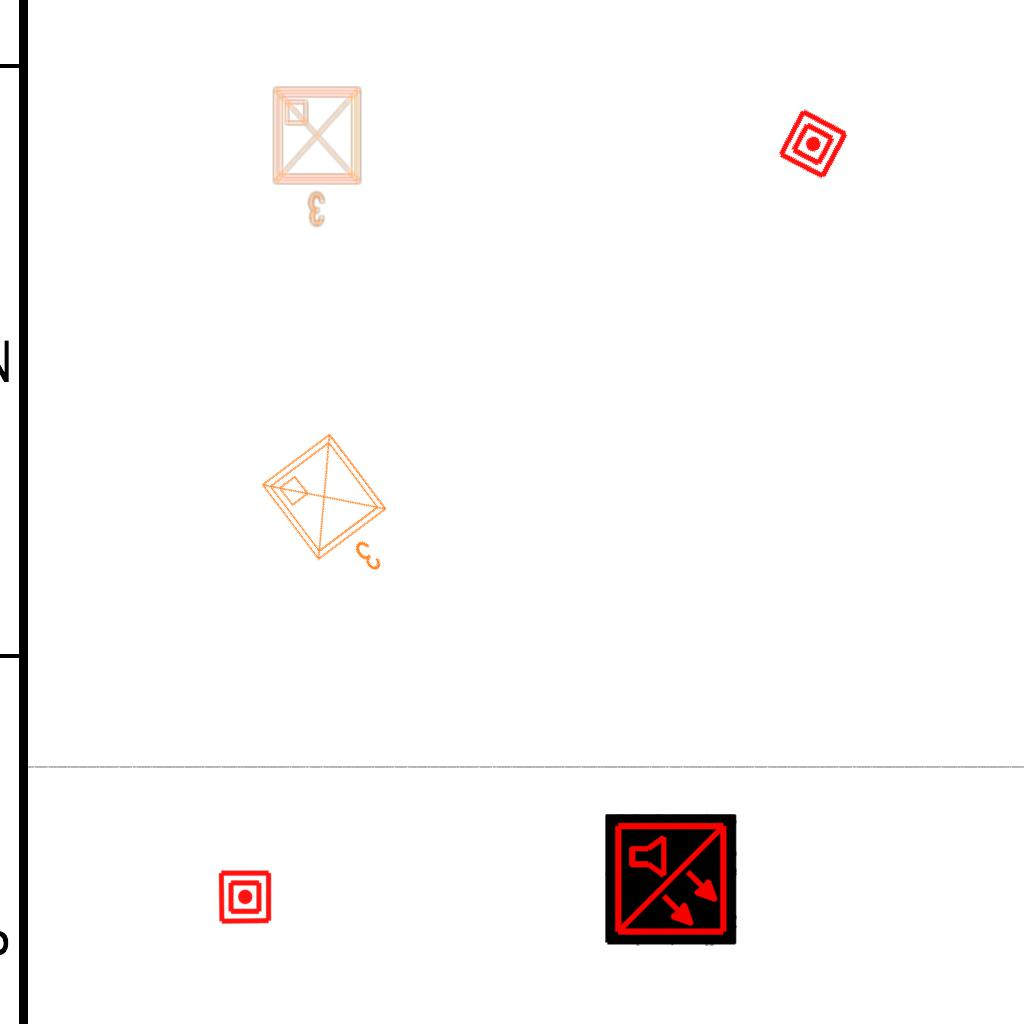Einbaudownlights_LED_Konferenzraeume: (251, 420, 425, 604), (267, 81, 371, 231)
NAM-Nichtautomatischer_Melder: (775, 106, 851, 182), (217, 869, 273, 925)
OKW_Multisensormelder_(Kombination_optischer_Rauch-Kahlenmonoxid_Waerme-Melder): (605, 814, 737, 946)
